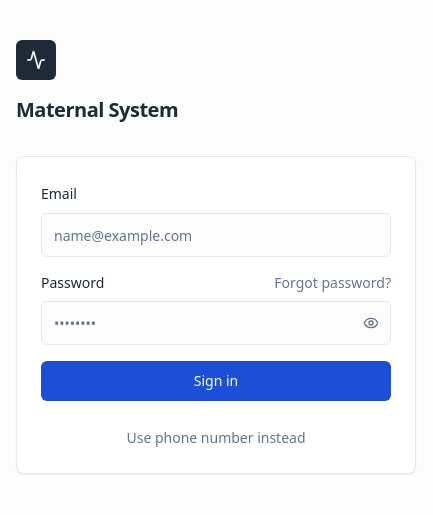
Test: Login Flow › shows validation error when fields are empty
This screenshot has width=433, height=515.
Click the button with id "login-submit" at coordinates (216, 381), box [41,361,391,401]
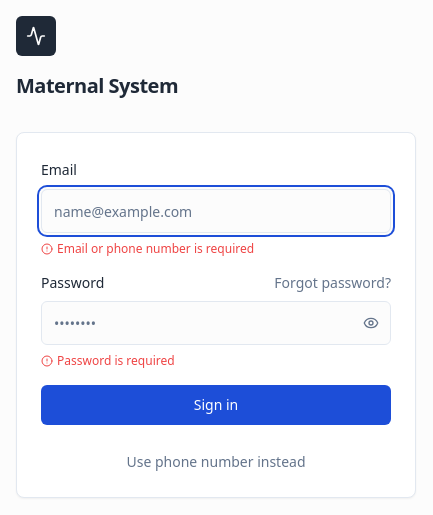
Expected: the text "Email or phone number is required" is shown, [41,240,254,257]
Expected: the text "Password is required" is shown, [41,352,175,369]
